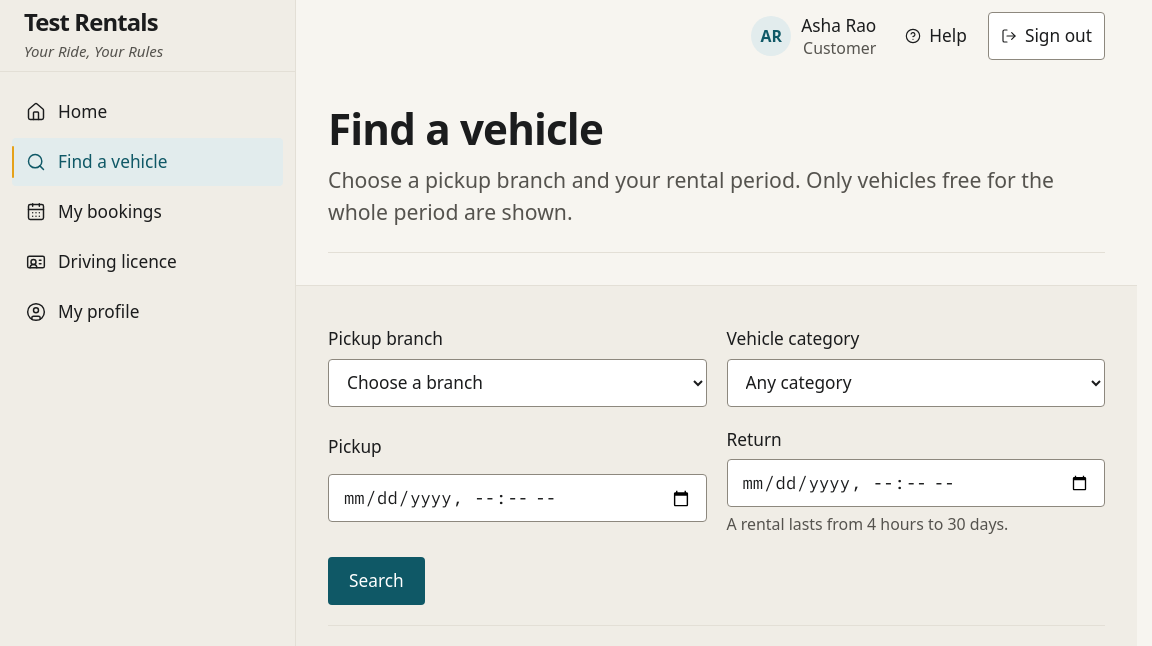
Test: vehicle search (Search.Available) › sends the category when one is chosen
This screenshot has width=1152, height=646.
Select "Scooter (Two-Wheeler)" in the dropdown labelled "Vehicle category" at (916, 383), box x1=726 y1=359 x2=1105 y2=407
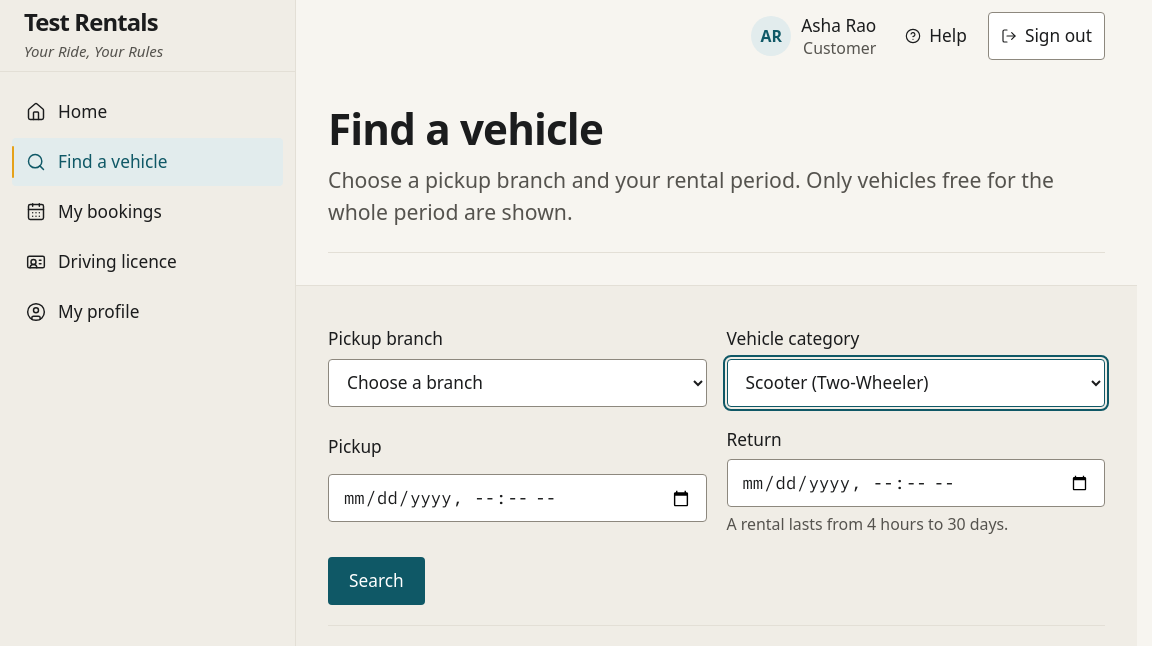
Select "Andheri" in the dropdown labelled "Pickup branch" at (517, 383), box x1=328 y1=359 x2=706 y2=407
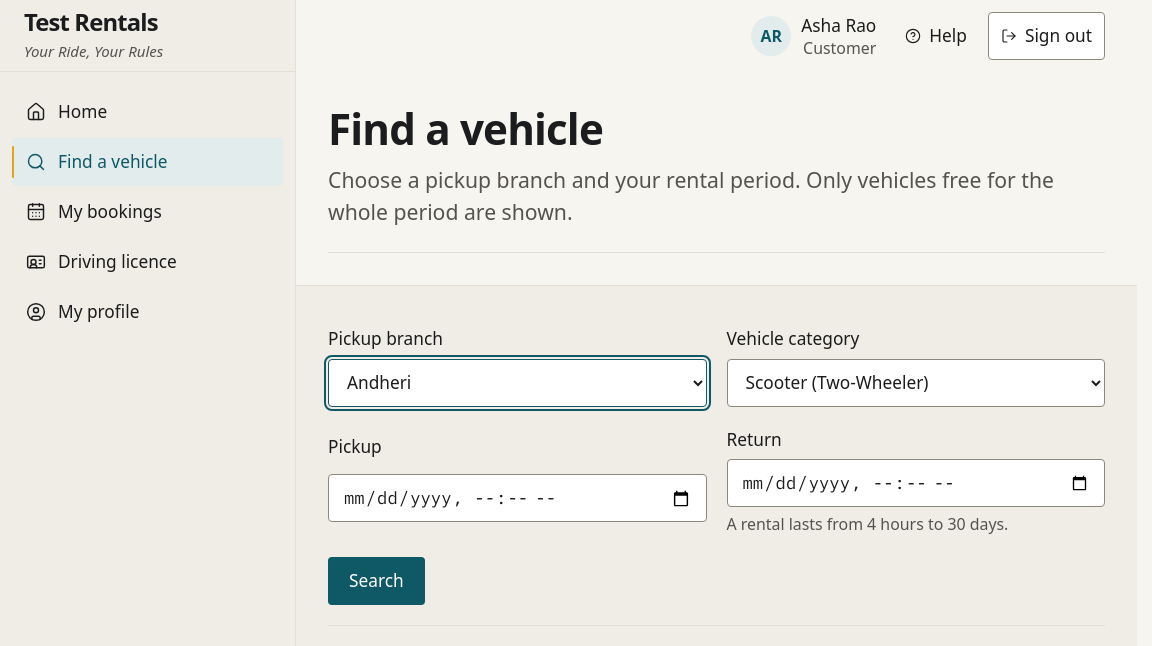
Type "2027-01-10T10:00" into the field labelled "Pickup".
click(517, 498); type("2027-01-10T10:00")  # box x1=328 y1=474 x2=706 y2=522
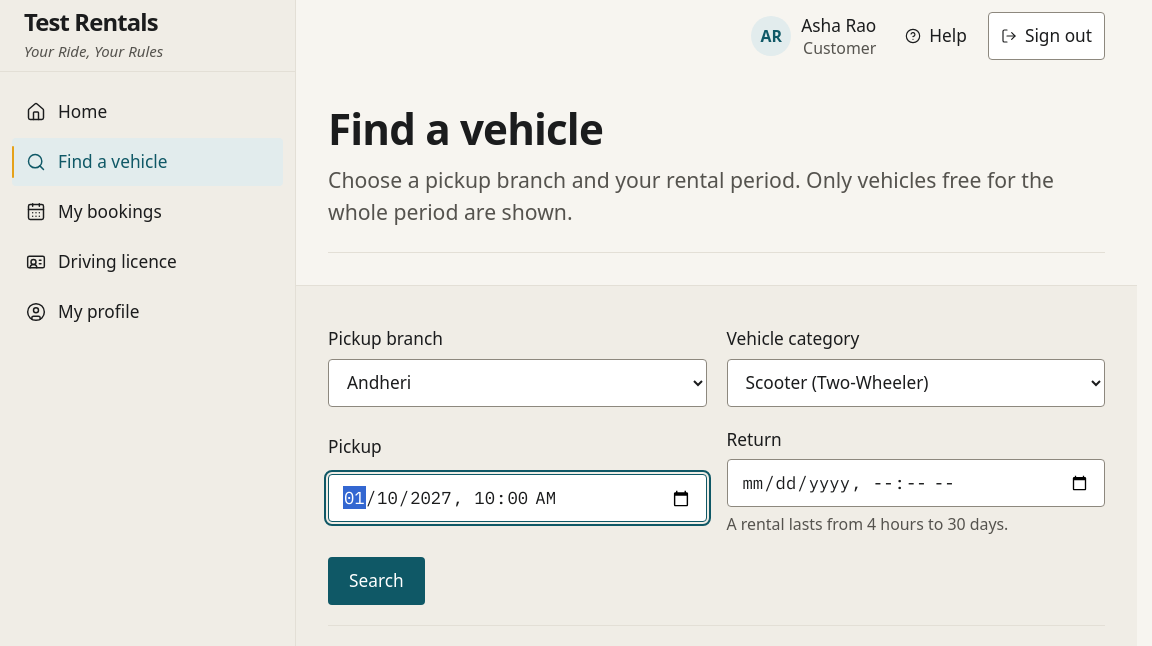
Type "2027-01-12T10:00" into the field labelled "Return".
click(916, 483); type("2027-01-12T10:00")  # box x1=726 y1=459 x2=1105 y2=507
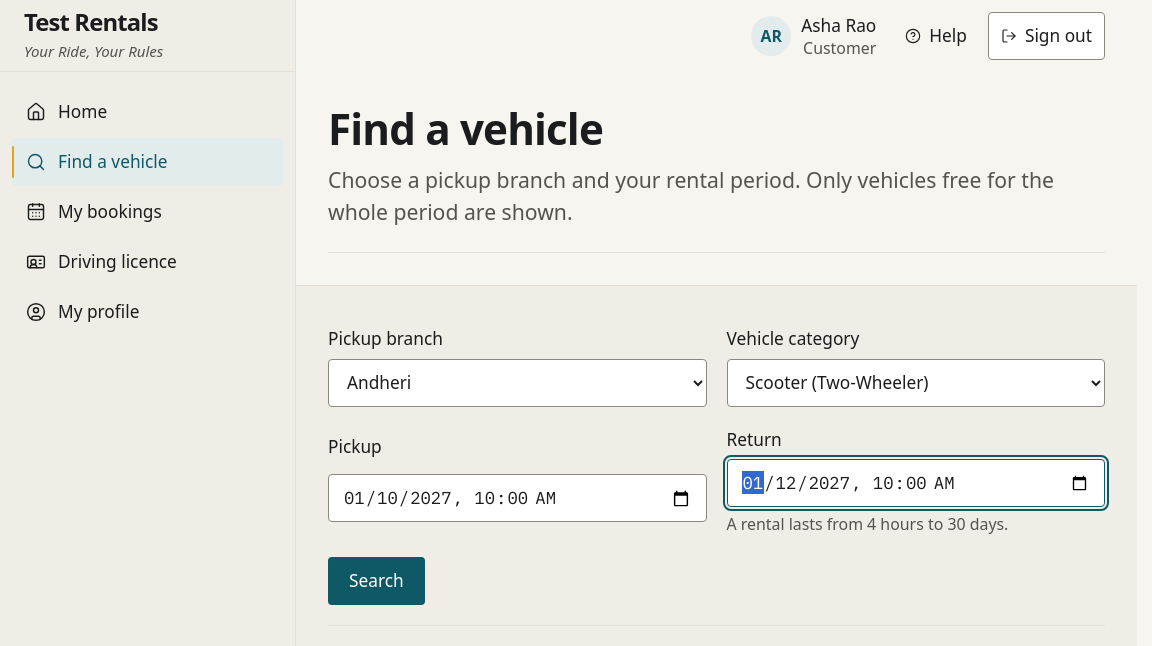
Click the button "Search".
click(376, 581)  # box x1=328 y1=557 x2=425 y2=605
(page scrolled)
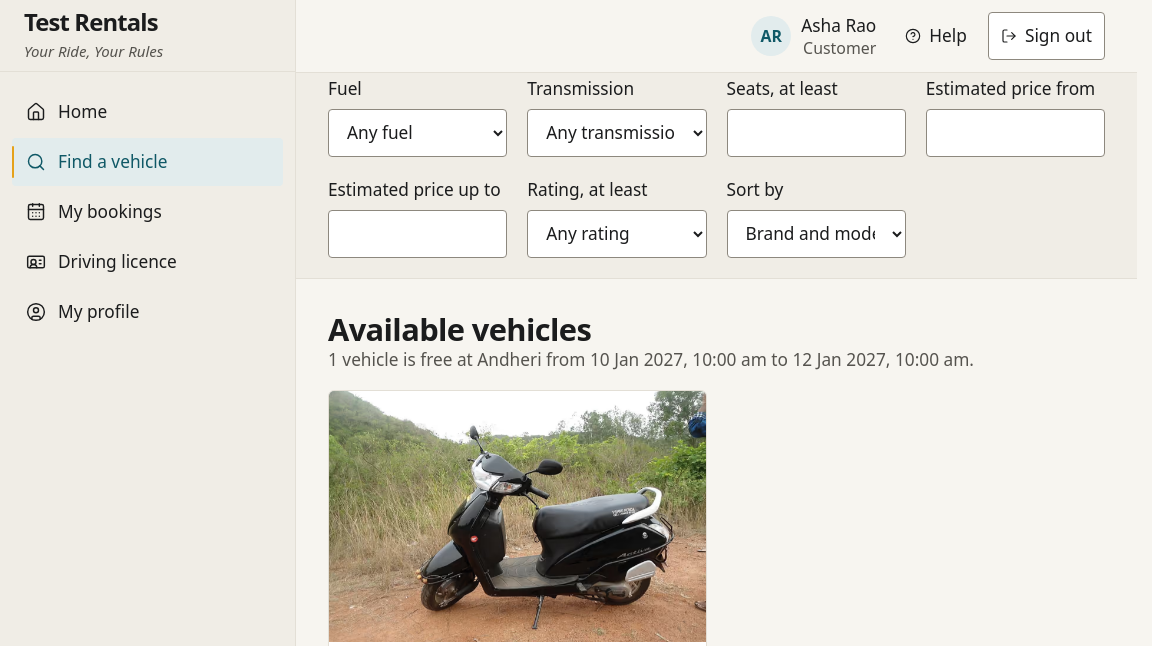
Expected: the text "1 vehicle is free" is shown, x1=328 y1=348 x2=974 y2=371
